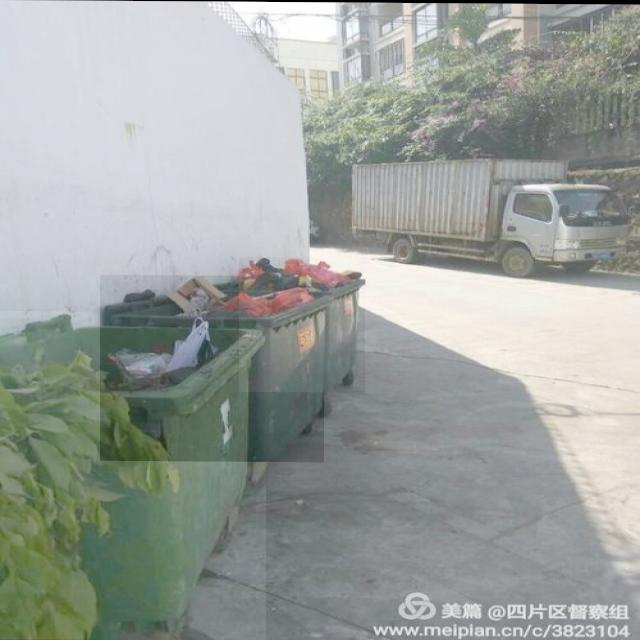garbage_bin: (0, 311, 266, 640)
overflow: (100, 275, 324, 462), (239, 257, 365, 392)
